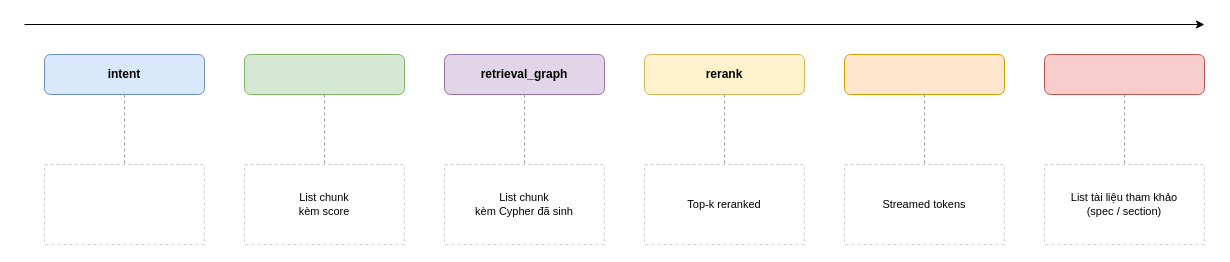
This 1230x262 diagram has some shape labels left out. Each missing label, with the box of its shape:
answer: (844, 54, 1004, 94)
retrieval_vector: (244, 54, 404, 94)
sources: (1044, 54, 1204, 94)
Xác định ý định: (44, 164, 204, 244)
